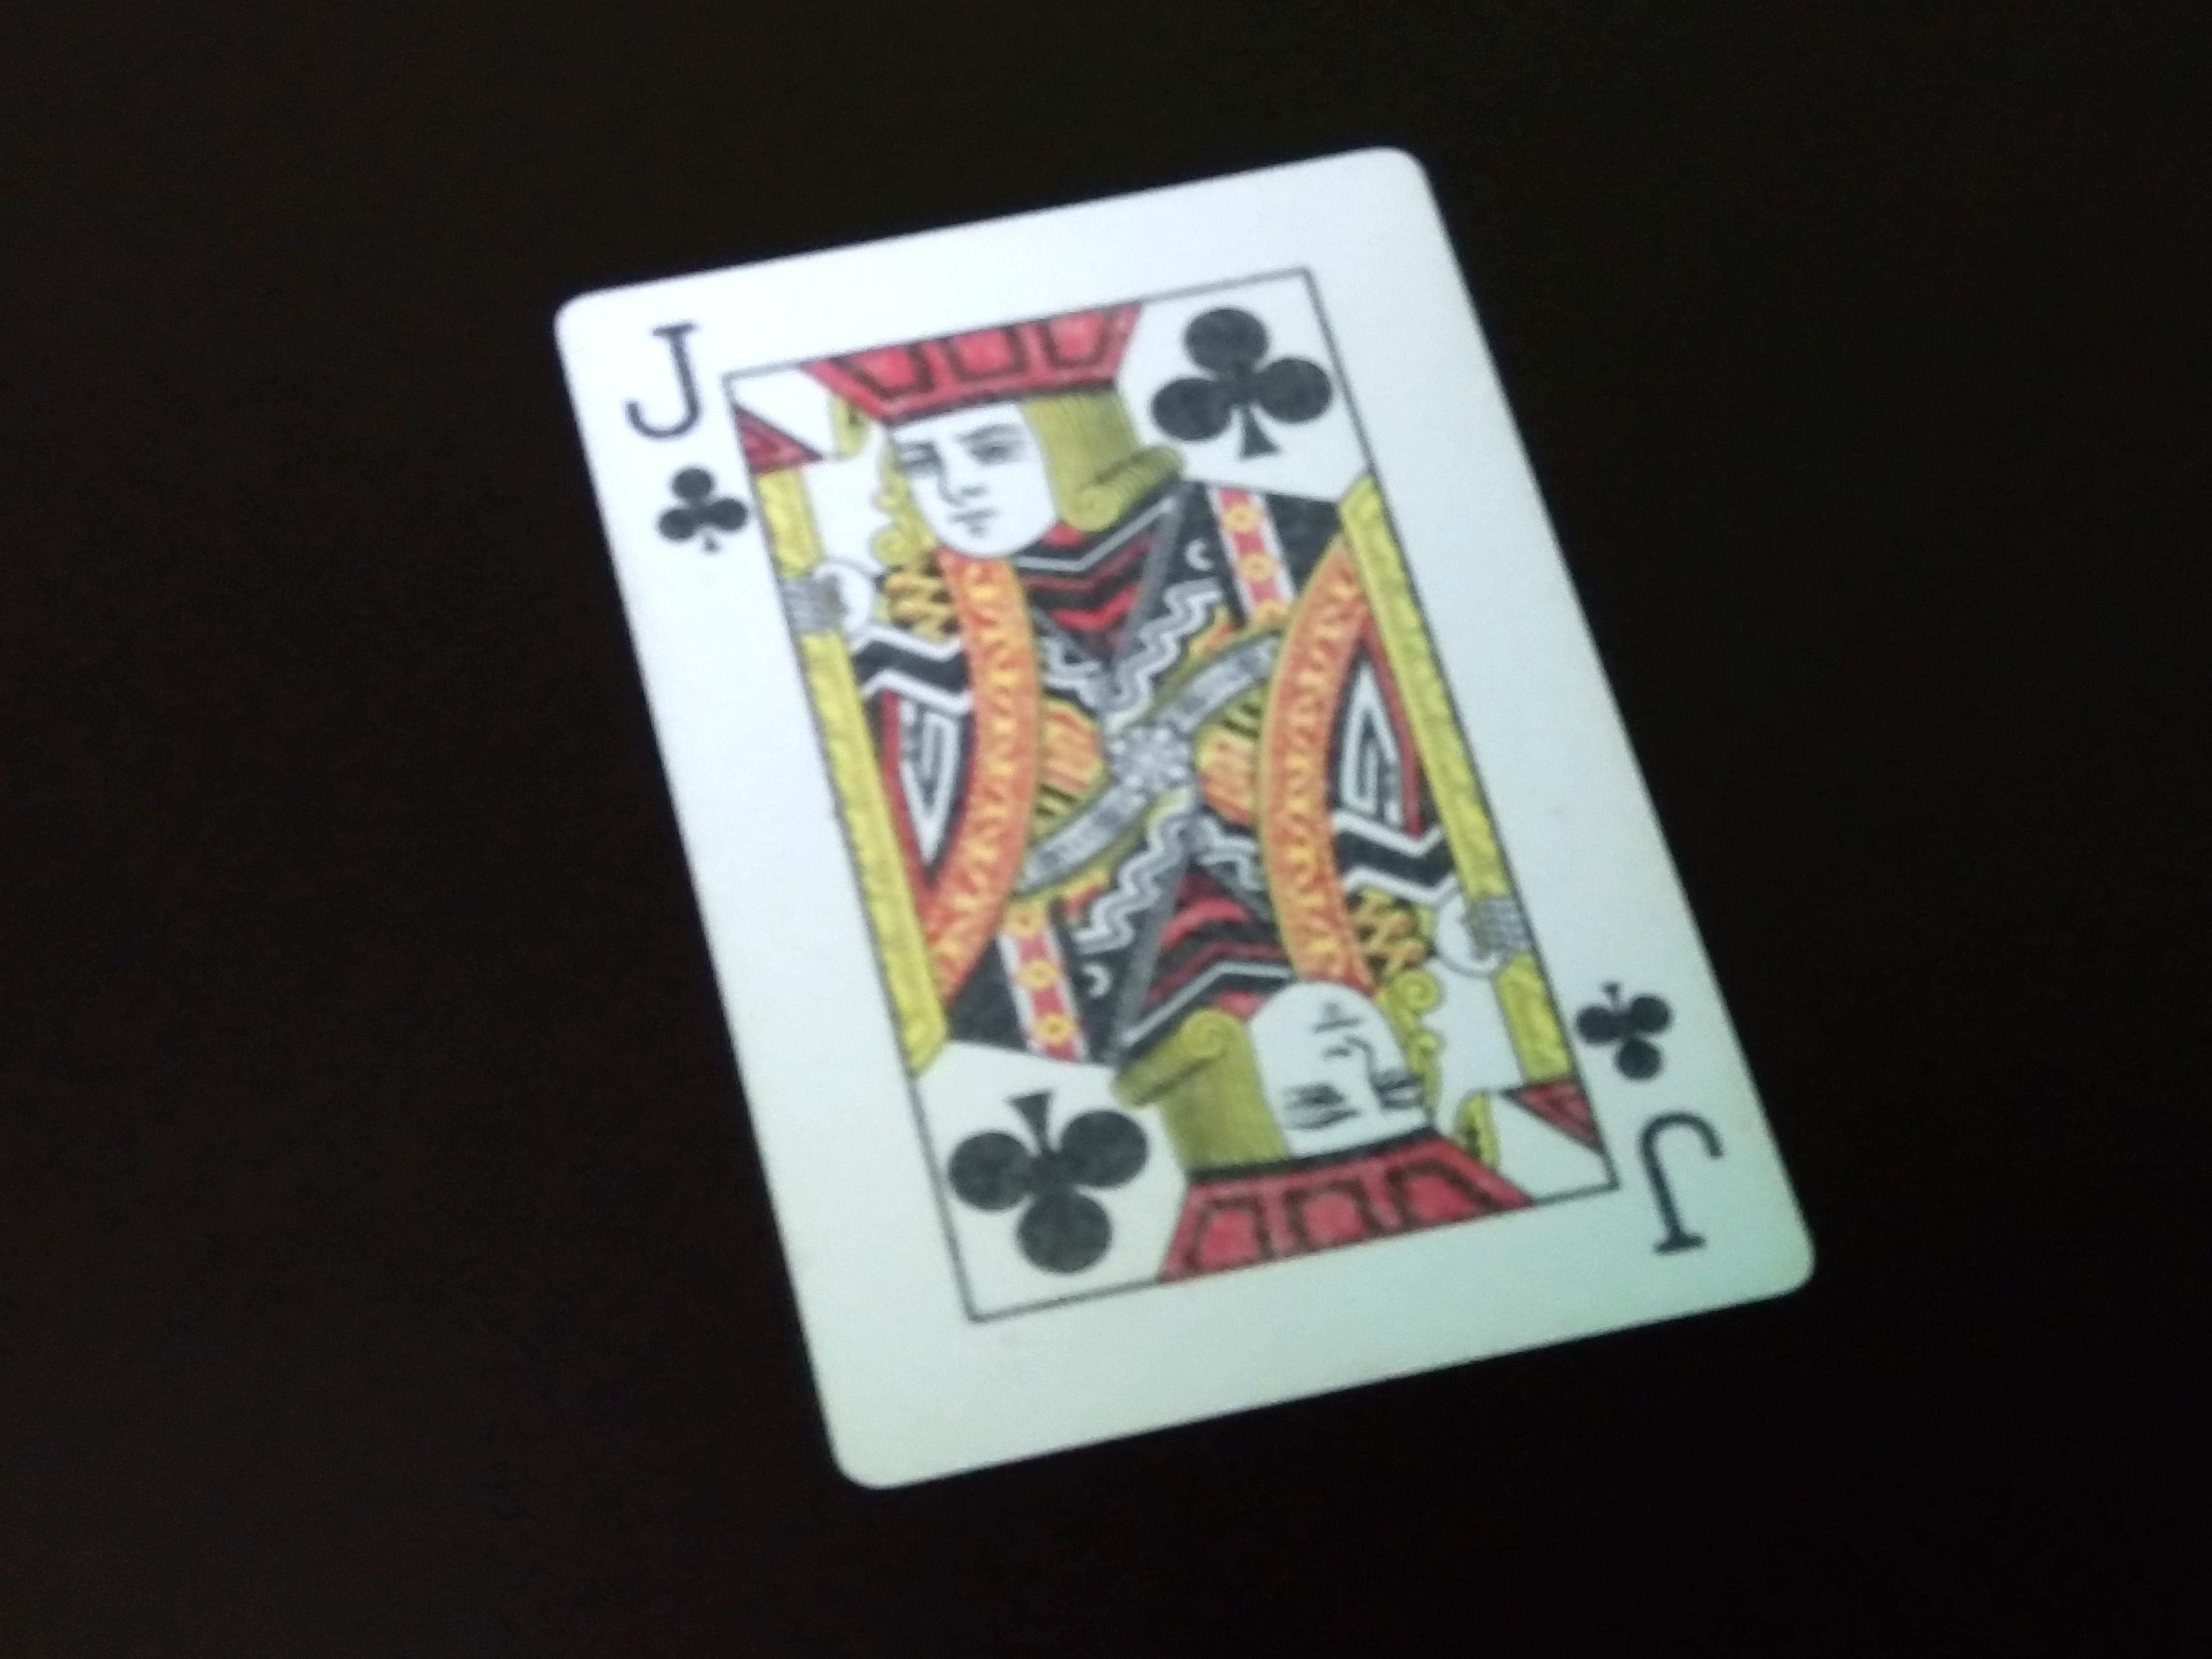JC: (1575, 974, 1735, 1267)
